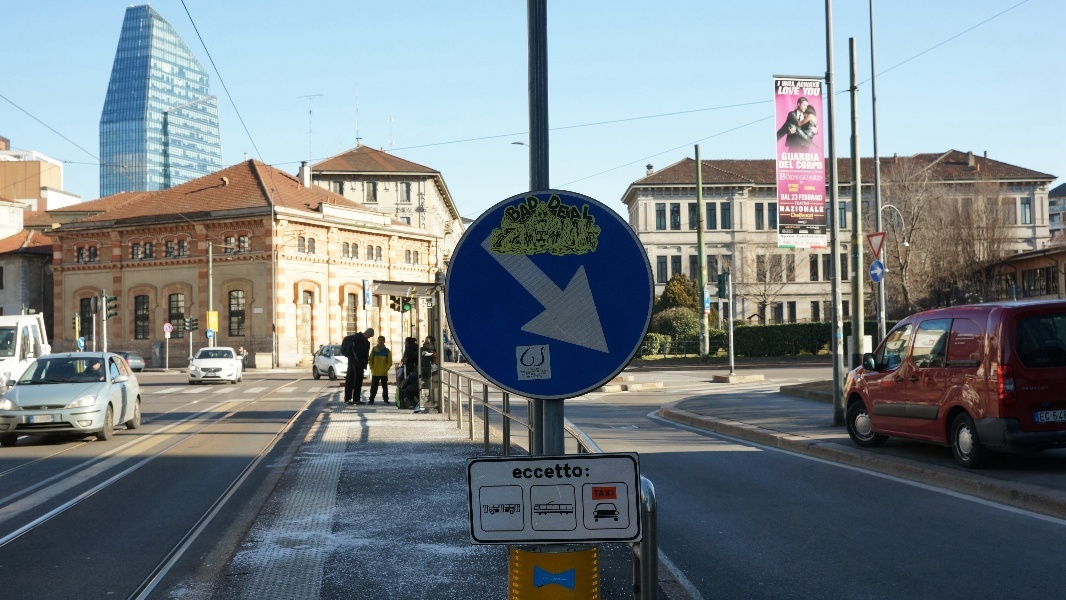text: (513, 194, 528, 231), (561, 195, 576, 230), (577, 195, 592, 230), (529, 194, 541, 231), (503, 194, 512, 231), (513, 463, 528, 480), (529, 463, 544, 480), (545, 463, 560, 480), (561, 463, 576, 480), (577, 463, 590, 480), (554, 195, 560, 230), (785, 86, 801, 96), (785, 152, 800, 162), (801, 152, 816, 162), (801, 161, 816, 171), (785, 172, 800, 182), (801, 172, 816, 182), (593, 195, 597, 230), (802, 87, 816, 97), (785, 205, 800, 214), (801, 205, 816, 214), (594, 489, 608, 498), (706, 292, 720, 301), (801, 194, 816, 202), (801, 81, 816, 89), (1041, 412, 1051, 422), (785, 161, 796, 170), (1025, 386, 1040, 392), (34, 416, 48, 422), (1057, 411, 1066, 420), (545, 577, 560, 582), (817, 205, 825, 214), (817, 161, 824, 171), (785, 81, 796, 87), (801, 213, 814, 218), (529, 372, 544, 376), (817, 172, 823, 182), (804, 186, 816, 191), (785, 226, 800, 230), (801, 235, 816, 239), (529, 375, 543, 379), (792, 194, 800, 201), (817, 194, 824, 202), (789, 188, 800, 193), (779, 86, 784, 96), (817, 87, 822, 97), (785, 194, 792, 201), (788, 184, 800, 188), (609, 489, 614, 498), (779, 161, 784, 170), (801, 201, 810, 206), (791, 213, 800, 218), (534, 367, 544, 371), (817, 152, 821, 162), (796, 161, 800, 171), (780, 172, 784, 182), (785, 235, 795, 239), (780, 205, 784, 214), (807, 226, 816, 230), (778, 81, 784, 87), (561, 577, 568, 582), (520, 370, 528, 374), (817, 81, 821, 89), (1041, 386, 1046, 392), (529, 370, 536, 374), (537, 369, 544, 373), (817, 235, 824, 239), (1053, 411, 1056, 420), (795, 201, 800, 206), (522, 372, 528, 376), (366, 281, 368, 293), (781, 194, 784, 201), (782, 152, 784, 162), (545, 369, 549, 373), (817, 226, 821, 230), (798, 81, 800, 89), (529, 368, 534, 371), (781, 235, 784, 239), (797, 235, 800, 239), (782, 81, 784, 87), (49, 416, 51, 422), (542, 577, 544, 582), (1039, 412, 1040, 422), (545, 372, 547, 376), (799, 194, 800, 202), (428, 304, 432, 306), (1023, 386, 1024, 392), (527, 375, 528, 379)
